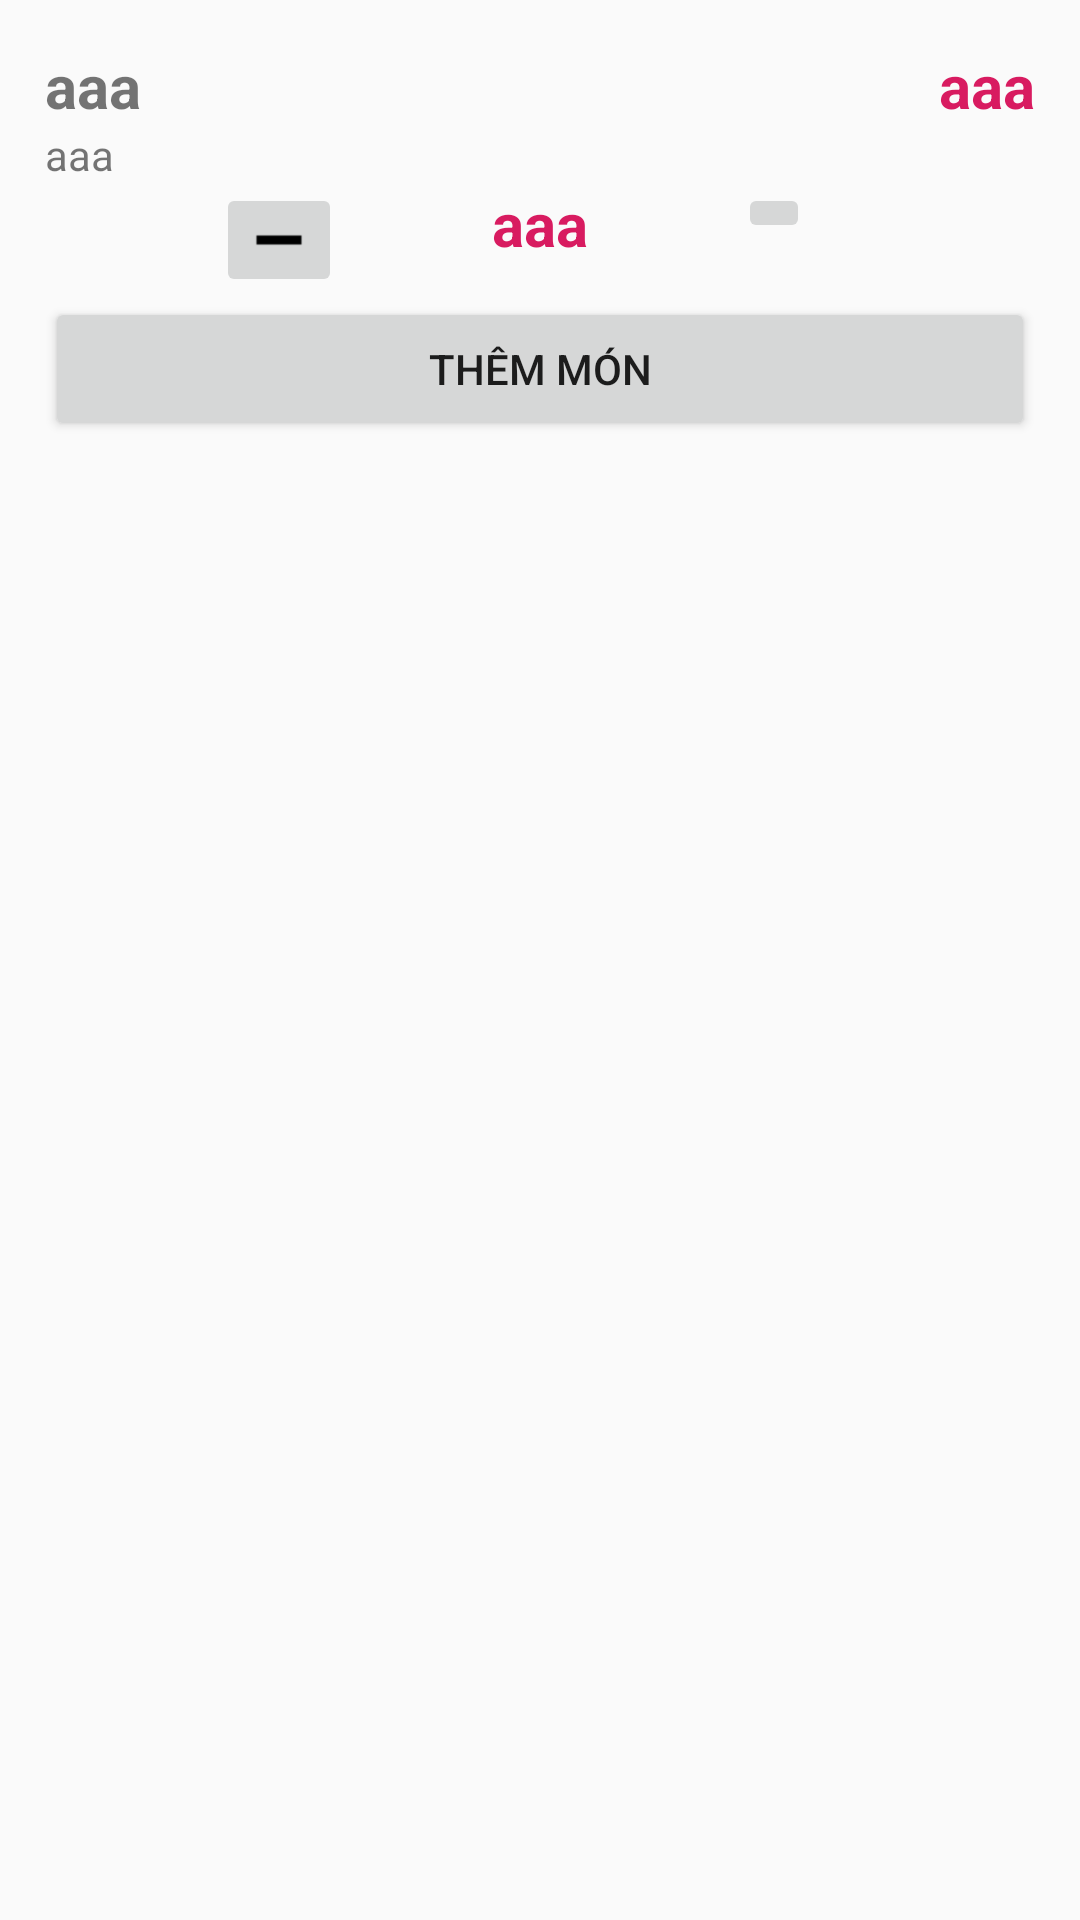

Icon click points for this 1080*1920 phone screenshot, format [x,y]:
minus: [279,240]
